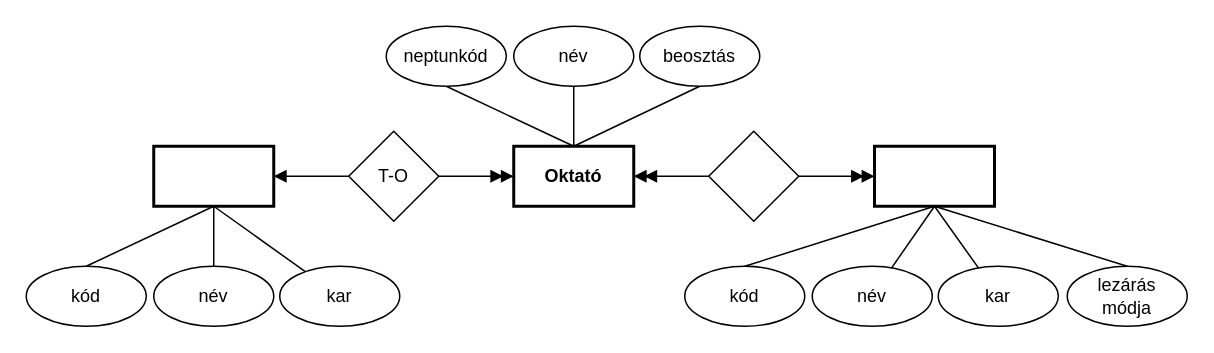
The diagram is 1214 pixels wide and 353 high, and some of its shapes have lost their labels. Each missing label, with the box of its shape:
O-T: (707, 130, 799, 221)
Tanszék: (152, 144, 274, 207)
Tantárgy: (872, 144, 995, 207)
